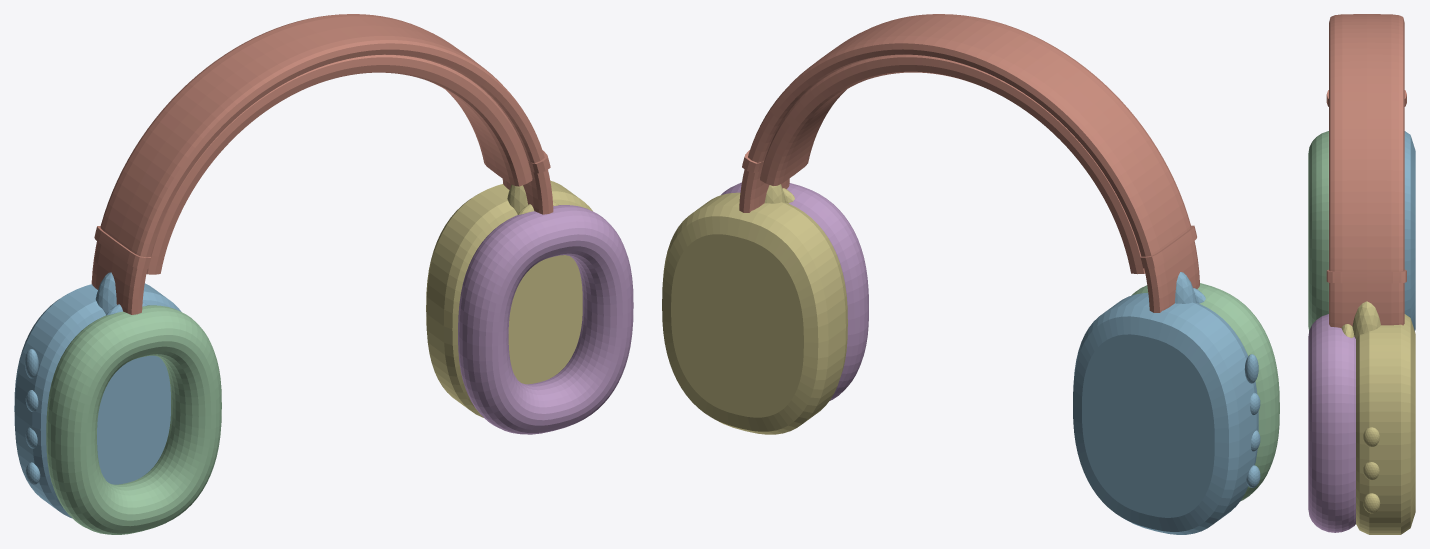
3 renders of one model, left to right at view 1: azimuth 30°, elevation 25°; view 2: azimuth 150°, elevation 25°; view 3: azimuth 270°, elevation 25°, orthographic. The views are drawn at different scales.
Parts seen in each view (by area): view 1: geometry_0; view 2: geometry_0; view 3: geometry_0.
Part boxes in pixels (x1,y1,x2,y2): geometry_0: [14, 14, 633, 534]; geometry_0: [662, 14, 1279, 534]; geometry_0: [1308, 14, 1415, 534].
Size of the model in its own units: 253 by 180 by 44.
